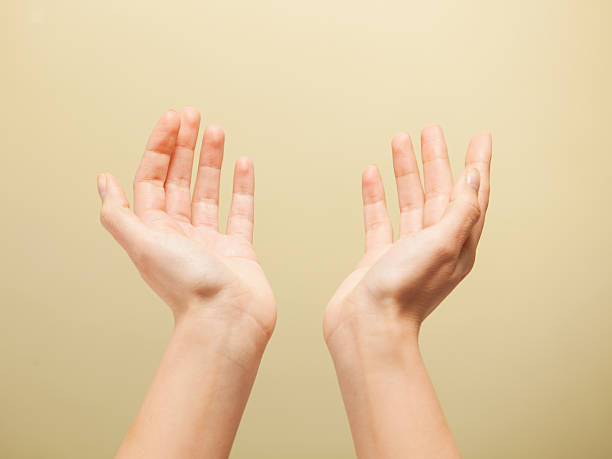hand: (93, 96, 294, 370), (316, 113, 496, 363)
